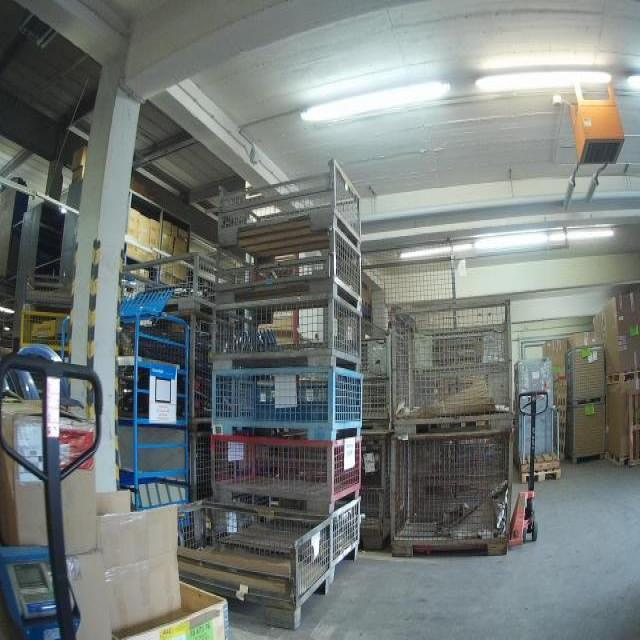pallet: (627, 389, 640, 470), (520, 467, 563, 487), (604, 368, 640, 388), (554, 380, 569, 420), (555, 420, 569, 462), (606, 449, 631, 469)
pallet_truck: (2, 364, 102, 637), (508, 391, 550, 548)
stillage: (178, 500, 330, 631), (391, 291, 518, 435), (390, 429, 513, 560), (220, 156, 368, 249), (207, 430, 367, 508), (206, 285, 368, 362), (208, 359, 367, 437), (213, 219, 365, 288), (118, 251, 211, 307), (327, 493, 366, 581), (563, 339, 613, 404), (22, 306, 91, 352), (567, 404, 609, 470), (186, 369, 225, 430), (350, 334, 390, 388), (366, 373, 396, 440), (358, 484, 390, 544), (363, 434, 395, 487), (188, 426, 214, 489), (193, 312, 217, 373)
